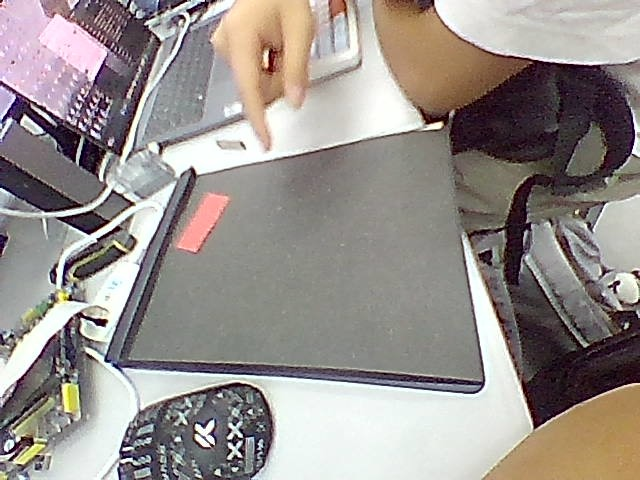card: (176, 193, 228, 253)
